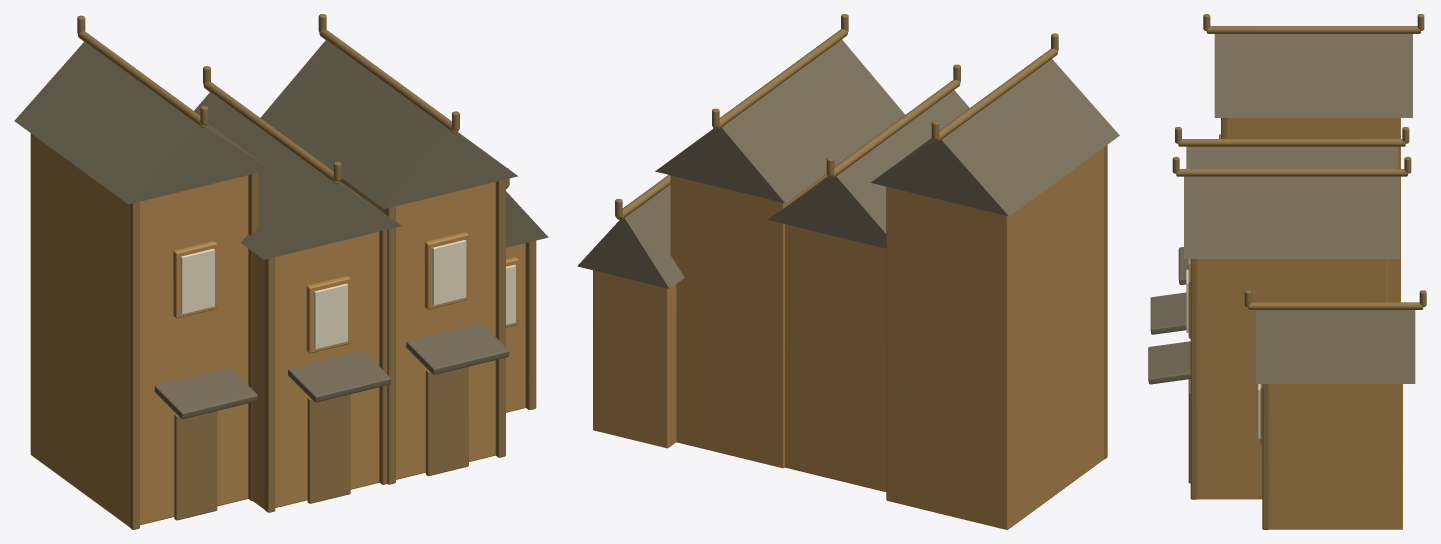
The model's file is asset01.glb.
The picture shows the model from 3 angles, left to right: view 1: azimuth 30°, elevation 25°; view 2: azimuth 150°, elevation 25°; view 3: azimuth 270°, elevation 25°; orthographic projection. The views are drawn at different scales.
Visible parts, largest first — view 1: 01_traditional_house; view 2: 01_traditional_house; view 3: 01_traditional_house.
Boxes of the visible parts, bbox=[...] form: 01_traditional_house: bbox=[14, 14, 548, 529]; 01_traditional_house: bbox=[577, 14, 1119, 529]; 01_traditional_house: bbox=[1148, 14, 1426, 529].
Size of the model in its own units: 1 by 0.8917 by 0.6235.
